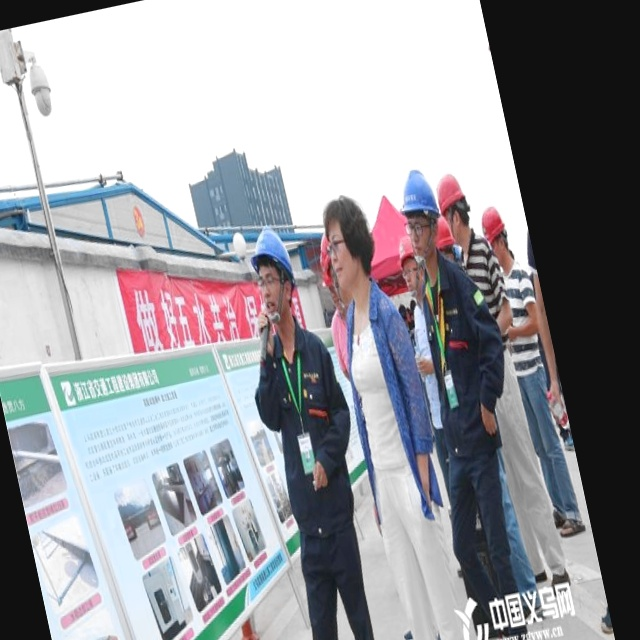Con_Casco: (243, 221, 304, 333), (391, 165, 447, 270)
Sin_Casco_Mascarrilla: (317, 191, 380, 290)
Sin_Chaleco: (333, 284, 434, 474), (413, 258, 500, 433)
